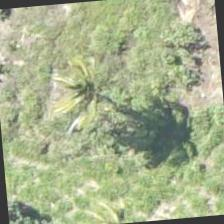Kelapa_Sawit: (33, 40, 131, 138)
